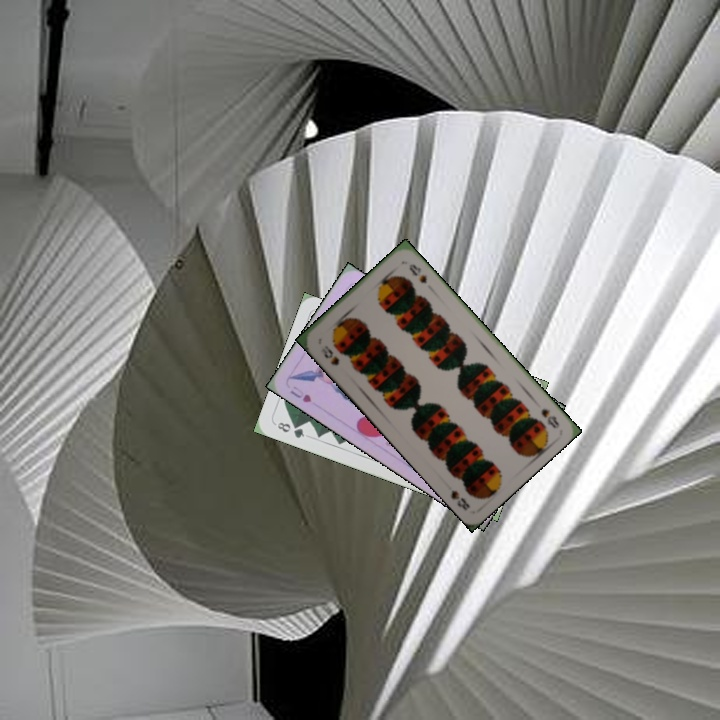G8: (273, 418, 307, 441)
HU: (286, 381, 314, 405)
S8: (316, 341, 342, 368), (537, 405, 562, 431)
